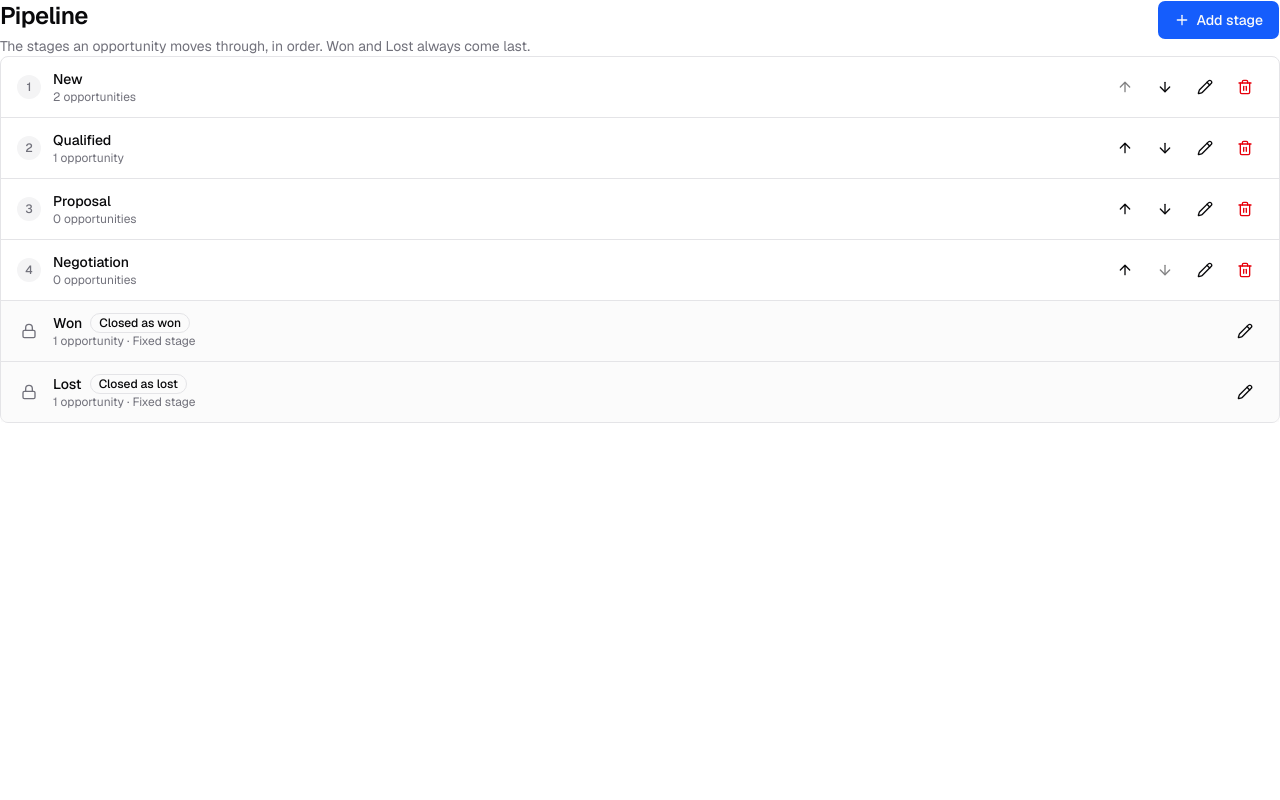
Scenario: PipelineSettingsPage › adds a stage, and puts a taken name's error on the field
The image size is (1280, 800).
Expected: the list named "Pipeline stages" is shown, [0, 56, 1279, 423]
Click the button "Add stage".
click(1219, 20)  # box [1157, 0, 1279, 40]
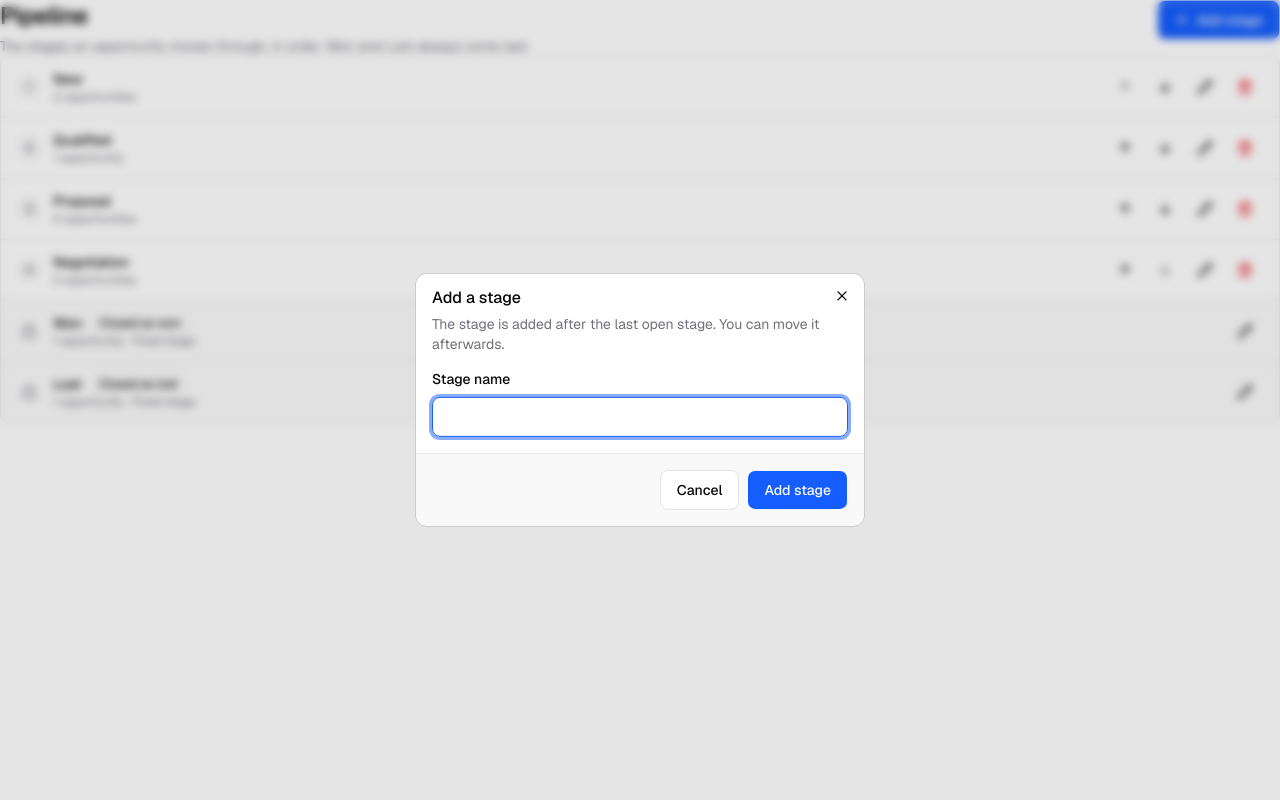
Click the button "Add stage".
click(798, 490)  # box [747, 470, 848, 510]
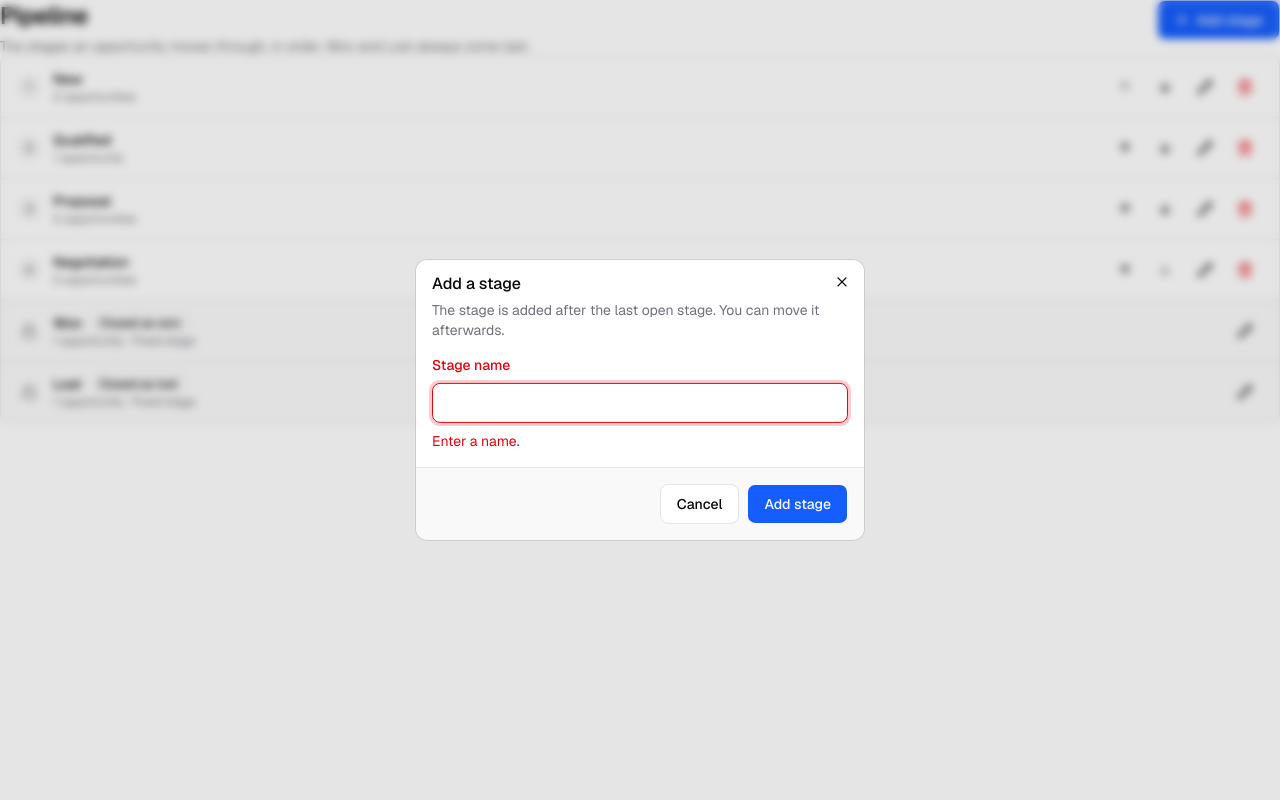
Now the text "Enter a name." is shown, box [432, 432, 520, 450]
Type " Demo " into the field labelled "Stage name".
click(640, 403); type(" Demo ")  # box [432, 383, 848, 423]
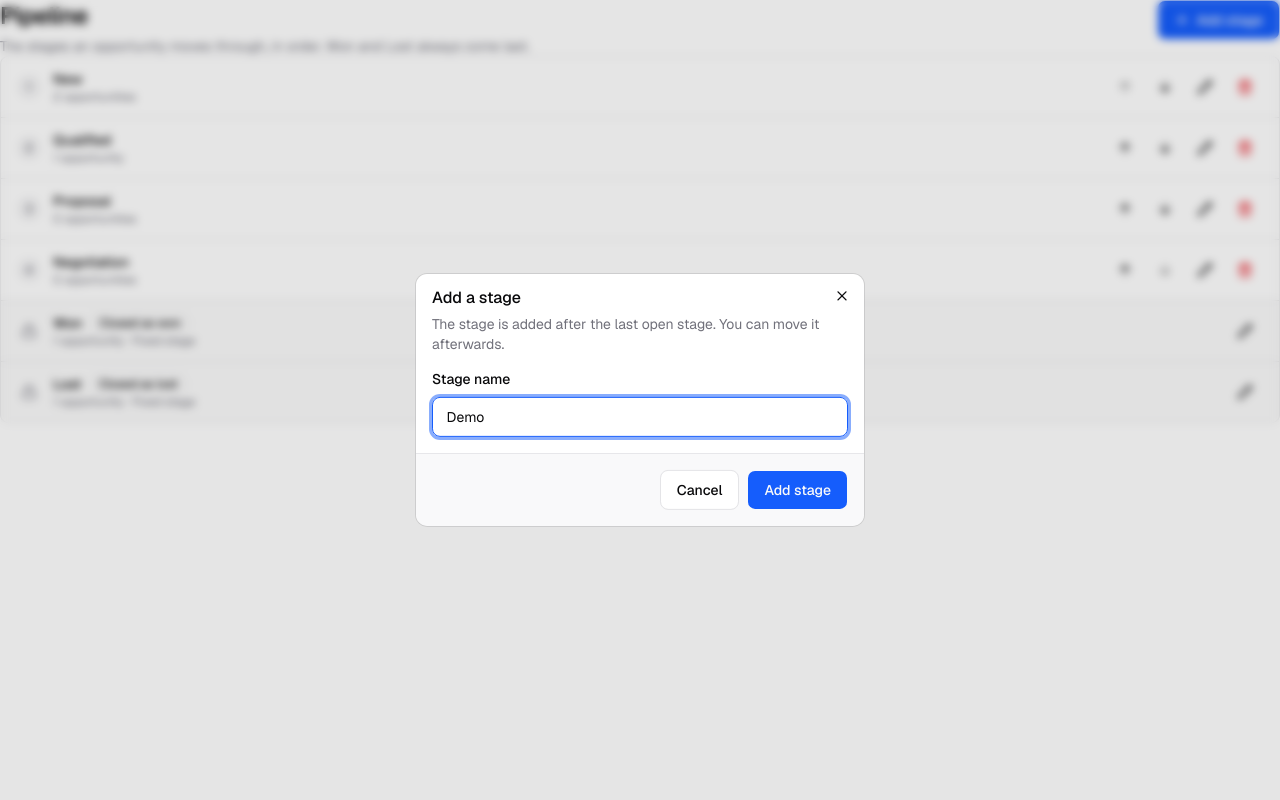
Click the button "Add stage".
click(798, 490)  # box [747, 470, 848, 510]
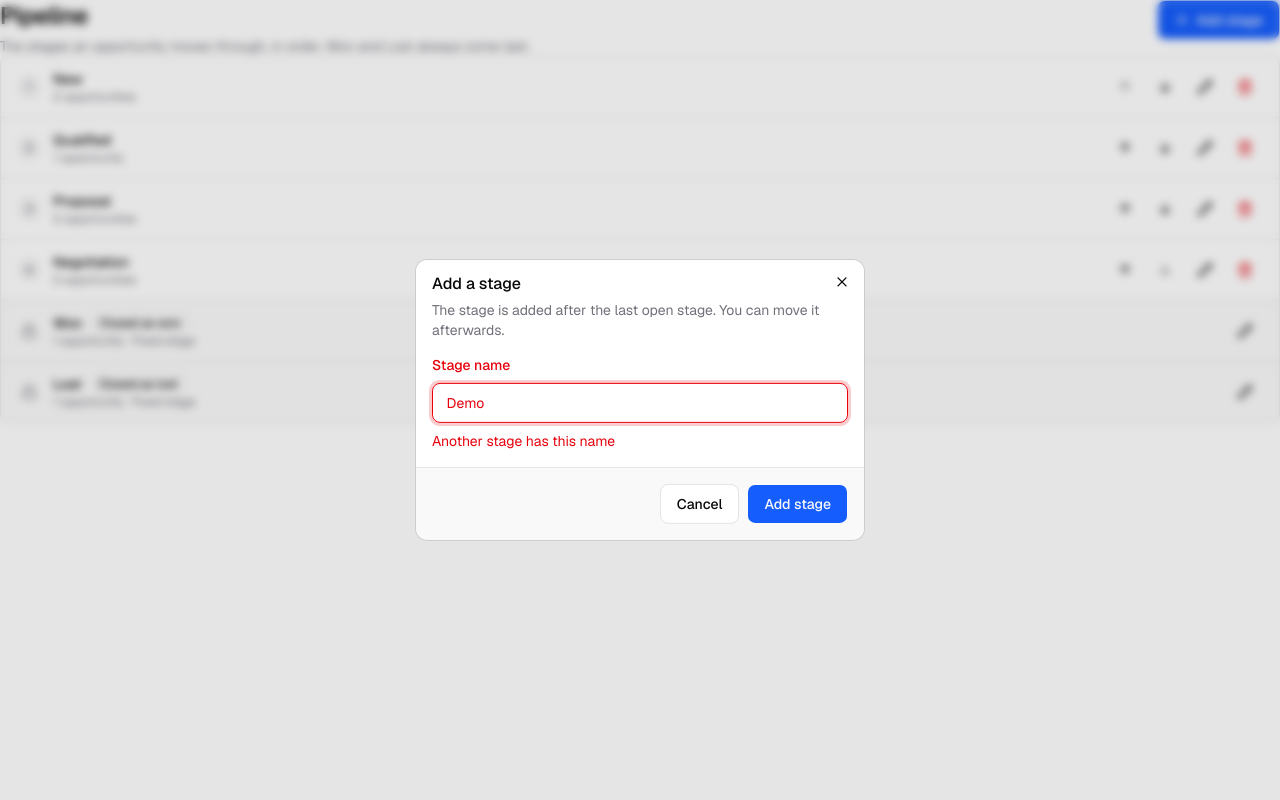
Now the text "Another stage has this name" is shown, box [432, 432, 615, 450]
Click the button "Add stage".
click(798, 504)  # box [747, 484, 848, 524]
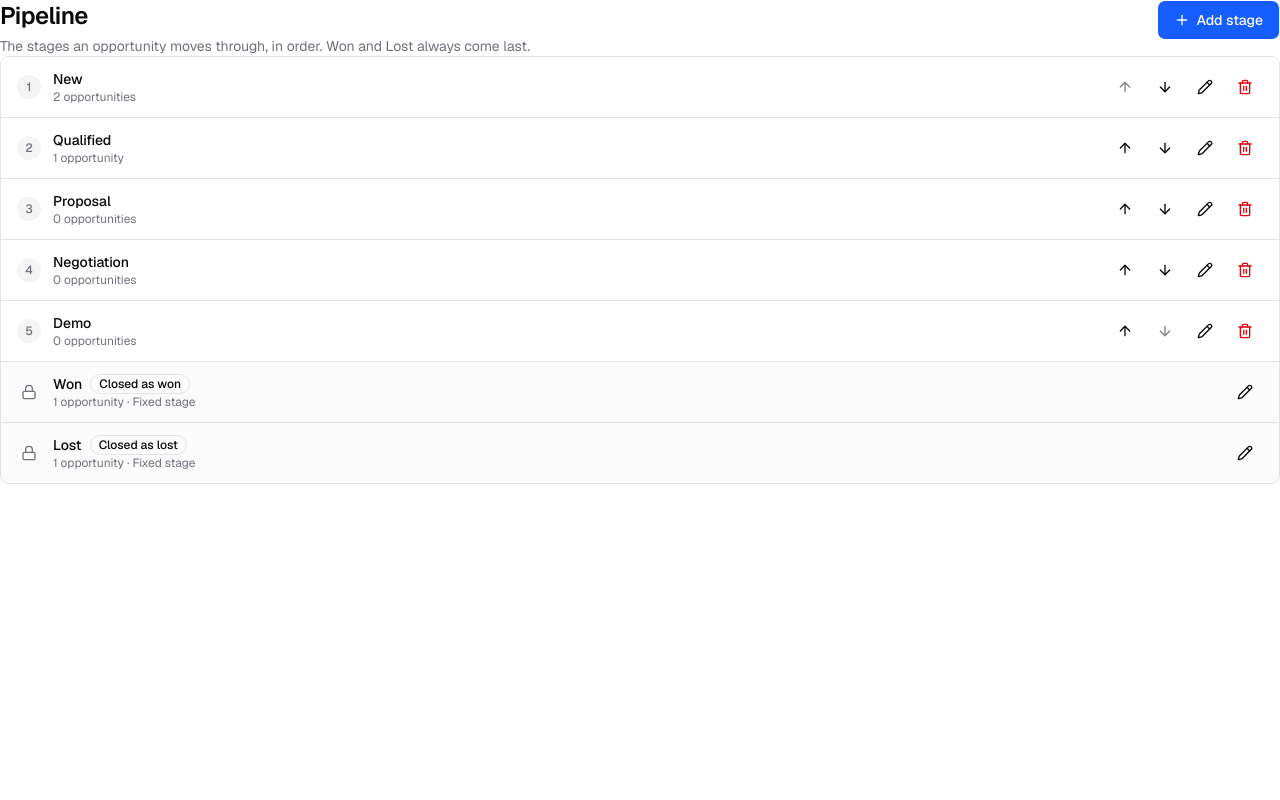
Now the dialog is gone
